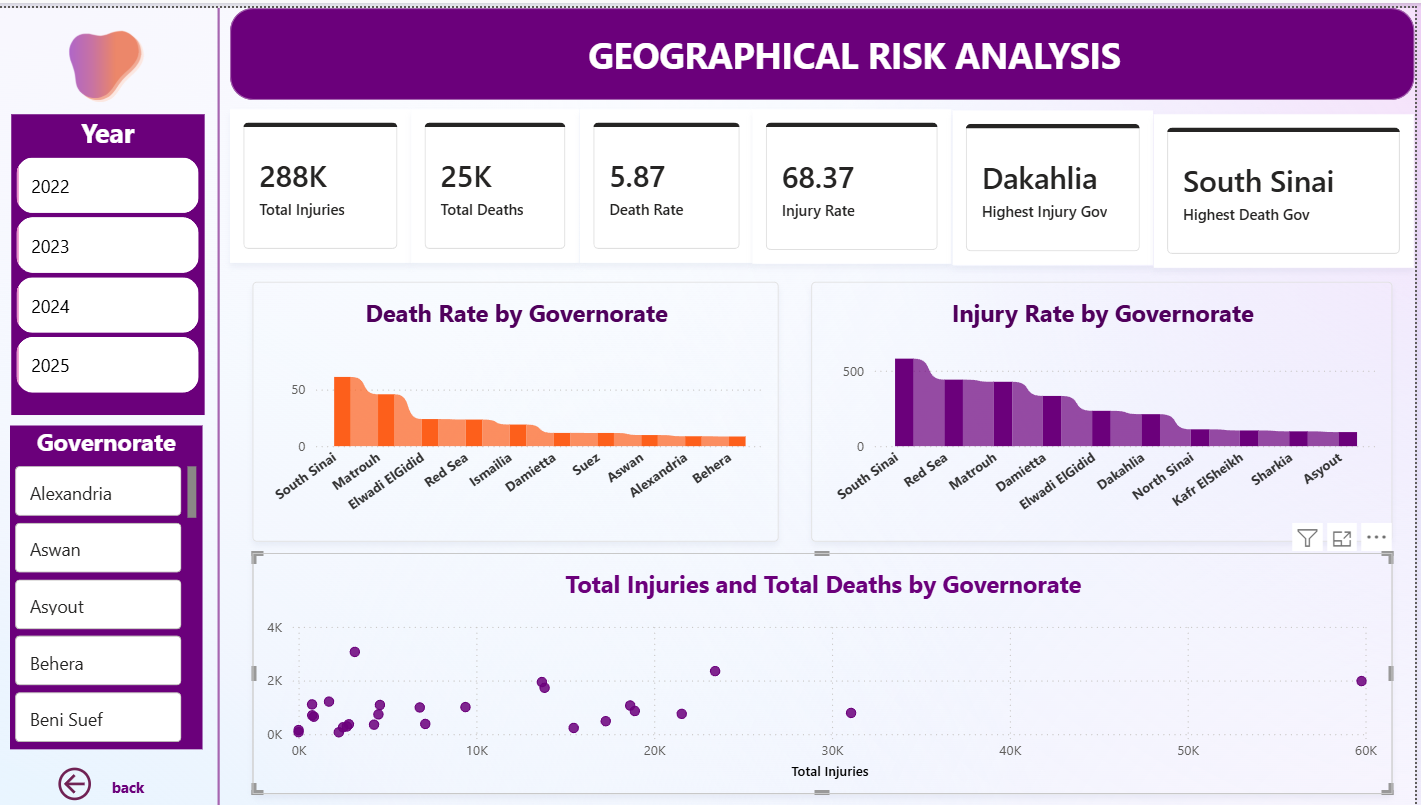

The page's visual inventory and layout, read from the dashboard file:
{"tool":"powerbi","page":{"name":"Page 4","canvas":[1280,720],"ordinal":4},"visuals":[{"type":"ribbonChart","fields":{"Category":["T_Dim_Governorate.Governorate"],"Y":["T_Dim_Age.Injury Rate"]},"box":[736,246.8,524.1,234.4],"z":0},{"type":"ribbonChart","fields":{"Category":["T_Dim_Governorate.Governorate"],"Y":["T_Dim_Age.Death Rate"]},"box":[232.2,246.8,474.5,234.4],"z":1000},{"type":"scatterChart","fields":{"Category":["T_Dim_Governorate.Governorate"],"X":["T_Dim_Age.Total Injuries"],"Y":["T_Dim_Age.Total Deaths"]},"box":[232.2,491.4,1027.9,217.5],"z":2000},{"type":"cardVisual","fields":{"Data":["T_Dim_Age.Total Injuries"]},"box":[211.6,91.7,163.9,138.2],"z":3000},{"type":"cardVisual","fields":{"Data":["T_Dim_Age.Total Deaths"]},"box":[375.4,91.7,151.6,138.2],"z":4000},{"type":"cardVisual","fields":{"Data":["T_Dim_Age.Death Rate"]},"box":[527,91.7,157,138.2],"z":5000},{"type":"cardVisual","fields":{"Data":["T_Dim_Age.Injury Rate"]},"box":[683.6,91.7,179.8,139.4],"z":6000},{"type":"cardVisual","fields":{"Data":["T_Dim_Age.Highest Injury Gov"]},"box":[863.3,92.9,181.4,139.7],"z":7000},{"type":"cardVisual","fields":{"Data":["T_Dim_Age.Highest Death Rate Gov"]},"box":[1044.8,91.3,234.4,140.9],"z":8000},{"type":"shape","box":[211.7,0,1068,83],"z":9000},{"type":"shape","box":[51.4,0,299.6,720.2],"z":10000},{"type":"actionButton","box":[0,0,201.8,101.5],"z":11000},{"type":"image","box":[0,0,212,115],"z":12000},{"type":"advancedSlicerVisual","fields":{"Values":["T_Dim_Year.Year"]},"box":[14.7,95.4,174,271],"z":13000},{"type":"advancedSlicerVisual","fields":{"Values":["T_Dim_Governorate.Governorate"]},"box":[13.5,376.6,173.6,292.3],"z":14000},{"type":"actionButton","box":[51.4,679.9,100,40],"z":15000},{"type":"textbox","box":[100.3,688.2,68.5,31.8],"z":16000},{"type":"textbox","box":[470.8,15.9,607.7,331.2],"z":17000}]}

Visuals, with their boxes in screenshot pixels (x1, y1, x2, y2), scaled from the page's 1280x720 canvas onto the 1421x805 screenshot:
ribbonChart - T_Dim_Governorate.Governorate x T_Dim_Age.Injury Rate: <box>817,276,1399,538</box>
ribbonChart - T_Dim_Governorate.Governorate x T_Dim_Age.Death Rate: <box>258,276,785,538</box>
scatterChart - T_Dim_Governorate.Governorate x T_Dim_Age.Total Injuries: <box>258,549,1399,793</box>
cardVisual - T_Dim_Age.Total Injuries: <box>235,103,417,257</box>
cardVisual - T_Dim_Age.Total Deaths: <box>417,103,585,257</box>
cardVisual - T_Dim_Age.Death Rate: <box>585,103,759,257</box>
cardVisual - T_Dim_Age.Injury Rate: <box>759,103,959,258</box>
cardVisual - T_Dim_Age.Highest Injury Gov: <box>958,104,1160,260</box>
cardVisual - T_Dim_Age.Highest Death Rate Gov: <box>1160,102,1420,260</box>
shape: <box>235,0,1420,93</box>
shape: <box>57,0,390,804</box>
actionButton: <box>0,0,224,113</box>
image: <box>0,0,235,129</box>
advancedSlicerVisual - T_Dim_Year.Year: <box>16,107,209,410</box>
advancedSlicerVisual - T_Dim_Governorate.Governorate: <box>15,421,208,748</box>
actionButton: <box>57,760,168,804</box>
textbox: <box>111,769,187,804</box>
textbox: <box>523,18,1197,388</box>
